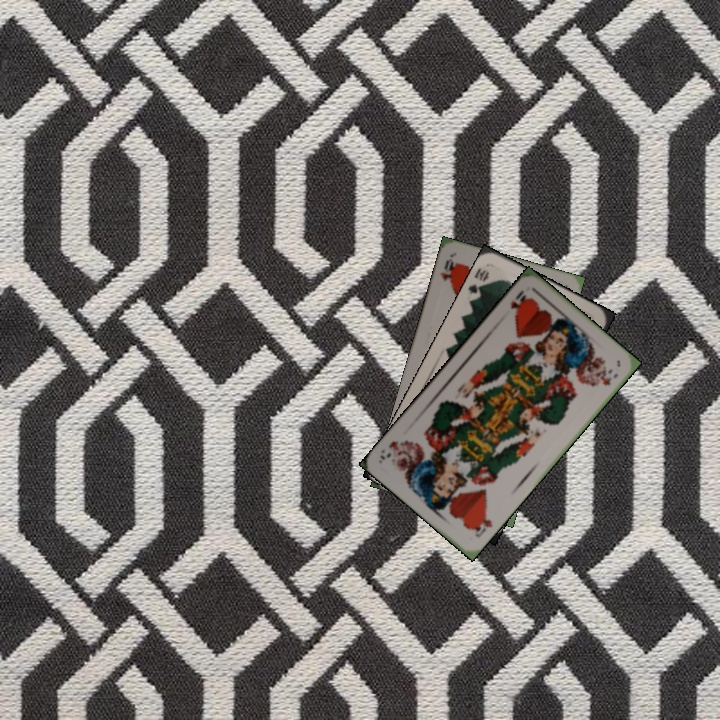G10: (464, 264, 492, 303)
HO: (468, 509, 495, 540), (506, 286, 531, 316), (436, 254, 459, 285)
